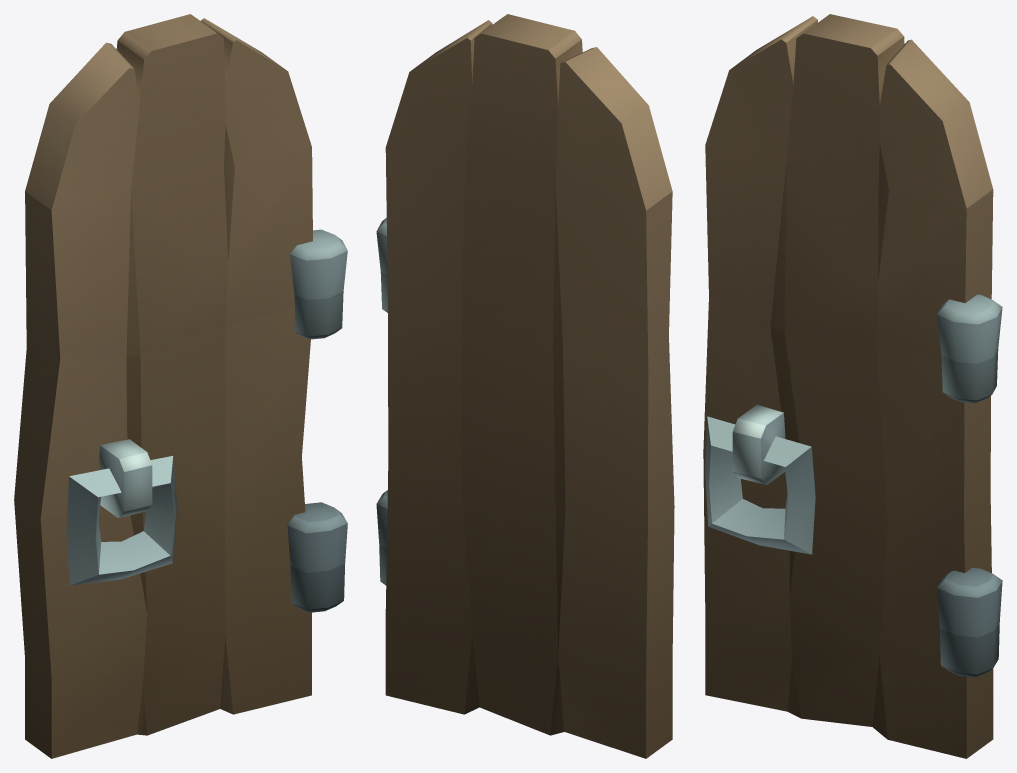
Rendered from door_small_round.fbx.
3 views of the same model, side by side, from view 1: azimuth 30°, elevation 25°; view 2: azimuth 150°, elevation 25°; view 3: azimuth 330°, elevation 25° (orthographic).
Visible parts, largest first — view 1: door_small_round; view 2: door_small_round; view 3: door_small_round.
Part boxes in pixels (<box>): door_small_round: <box>14,14,347,758</box>; door_small_round: <box>376,14,674,758</box>; door_small_round: <box>703,14,1002,758</box>.
Bounding box in the file's own units: 114 × 251 × 35.76.
